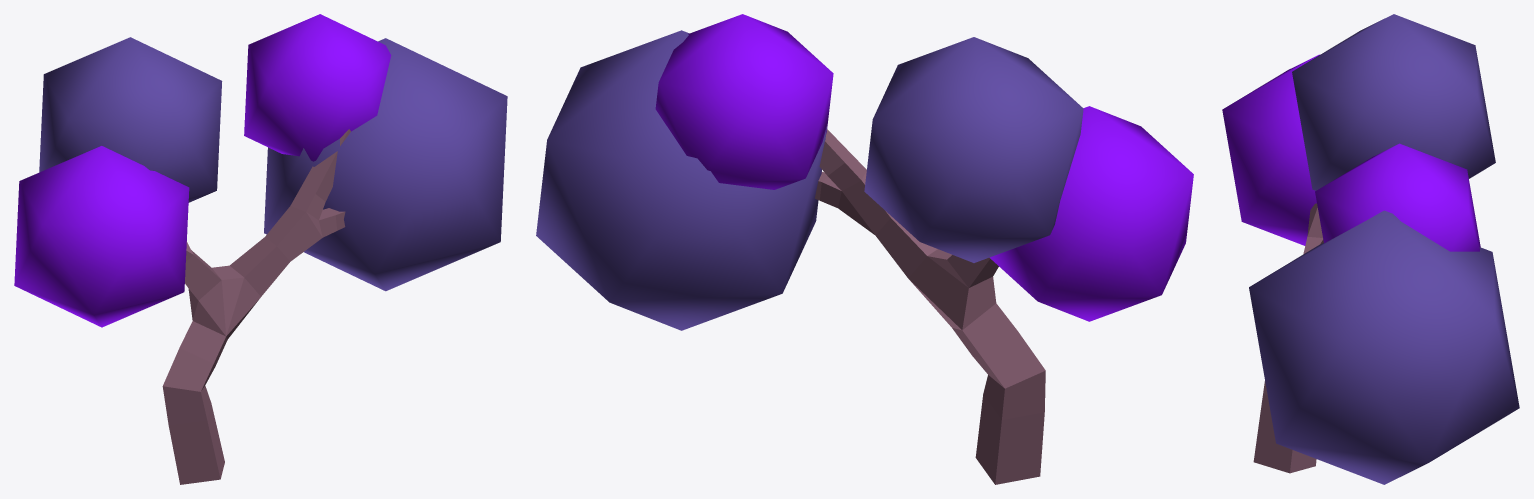
The model's file is treepurple.glb.
3 views of the same model, side by side, from view 1: azimuth 30°, elevation 25°; view 2: azimuth 150°, elevation 25°; view 3: azimuth 270°, elevation 25° (orthographic). The views are drawn at different scales.
Parts seen in each view (by area): view 1: ทรงกลม Ico.003, ทรงกลม Ico, ทรงกลม Ico.001, Cube, ทรงกลม Ico.002; view 2: ทรงกลม Ico.003, ทรงกลม Ico.001, ทรงกลม Ico, ทรงกลม Ico.002, Cube; view 3: ทรงกลม Ico.003, ทรงกลม Ico.001, ทรงกลม Ico.002, ทรงกลม Ico, Cube.
Boxes of the visible parts, x1,y1,x2,y2 form: ทรงกลม Ico.003: (264, 38, 507, 291); ทรงกลม Ico: (14, 146, 189, 327); ทรงกลม Ico.001: (39, 37, 222, 202); Cube: (162, 129, 350, 484); ทรงกลม Ico.002: (244, 14, 391, 161); ทรงกลม Ico.003: (536, 30, 826, 330); ทรงกลม Ico.001: (864, 37, 1083, 262); ทรงกลม Ico: (989, 106, 1193, 321); ทรงกลม Ico.002: (655, 14, 833, 189); Cube: (815, 129, 1045, 484); ทรงกลม Ico.003: (1249, 210, 1519, 484); ทรงกลม Ico.001: (1292, 14, 1495, 190); ทรงกลม Ico.002: (1315, 143, 1480, 251); ทรงกลม Ico: (1222, 54, 1319, 245); Cube: (1253, 203, 1323, 473).
Bounding box in the file's own units: 5.8 × 4.61 × 2.81.
